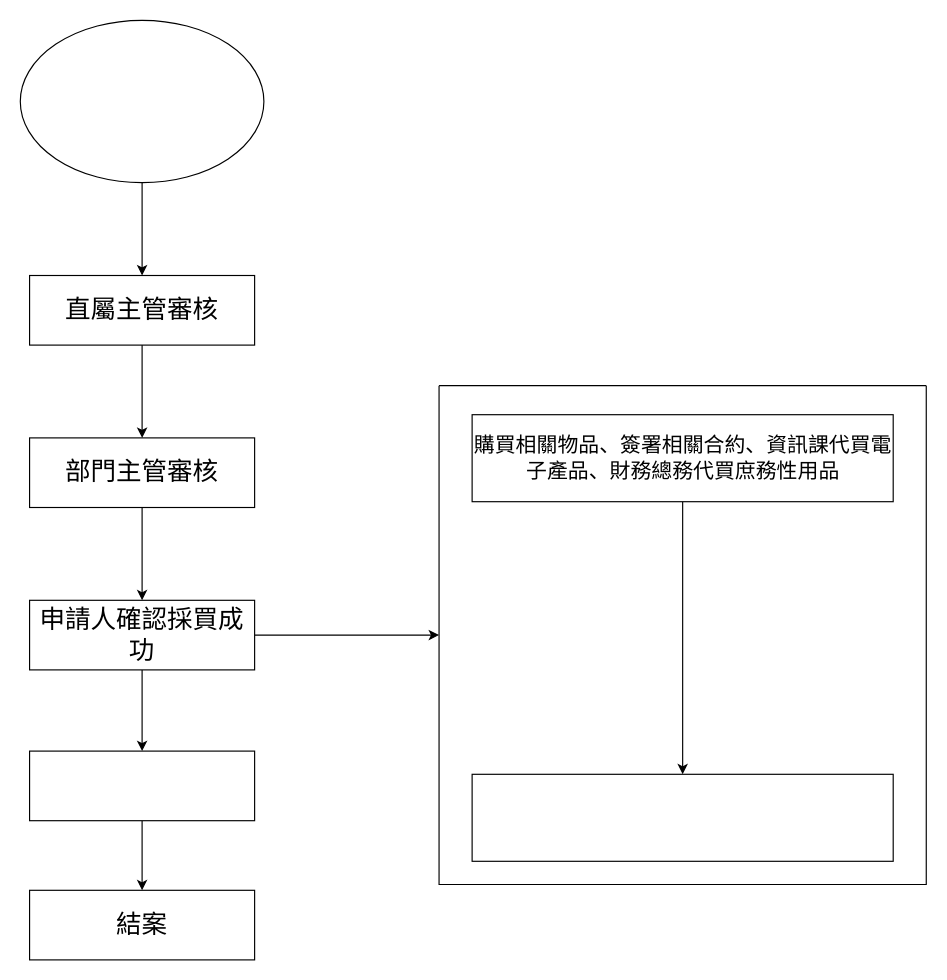
The diagram is 947 pixels wide and 980 high, and some of its shapes have lost their labels. Here are the shapes that lost their labels. From the top down, the centre of each, then its label:
At point 141,101: "申請人提出需求".
At point 141,785: "財務人員審核".
At point 682,817: "貨物、服務、相關機台抵達元貝公司".
